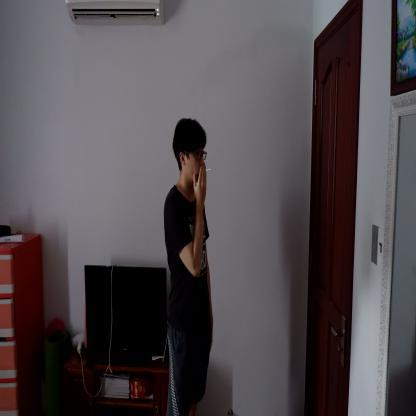cigarette: (204, 167, 212, 172)
person: (161, 115, 215, 415)
